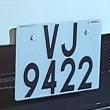2: (56, 57, 76, 93), (76, 55, 95, 91)
4: (41, 59, 59, 96)
9: (21, 60, 41, 101)
J: (59, 20, 78, 57)
V: (40, 22, 60, 59)
